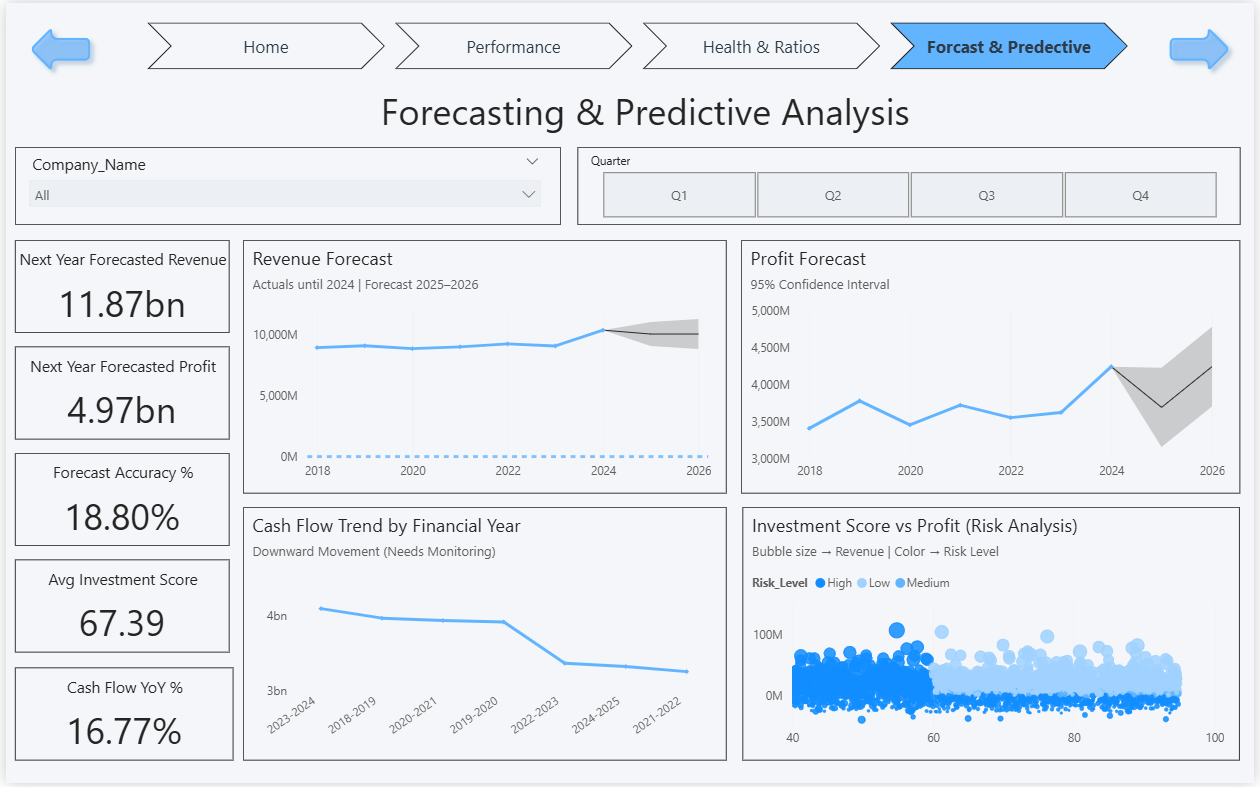

What the dashboard file says about the page in this screenshot:
{"tool":"powerbi","page":{"name":"Forcast & Predective","canvas":[1280,800],"ordinal":3},"visuals":[{"type":"lineChart","title":"Revenue Forecast ","fields":{"Y":["Sum(finance financial_dataset.Revenue)"],"Category":["finance financial_dataset.Year"]},"box":[242.5,243,496,260],"z":0},{"type":"lineChart","title":"Profit Forecast","fields":{"Category":["finance financial_dataset.Year"],"Y":["Sum(finance financial_dataset.Profit)"]},"box":[754.5,243,512,260],"z":1000},{"type":"lineChart","title":"Cash Flow Trend by Financial Year","fields":{"Y":["Sum(finance financial_dataset.Cash_Flow)"],"Category":["finance financial_dataset.Financial_Year"]},"box":[242.5,517,496,260],"z":2000},{"type":"scatterChart","title":"Investment Score vs Profit (Risk Analysis)","fields":{"X":["finance financial_dataset.Investment_Score"],"Y":["Sum(finance financial_dataset.Profit)"],"Series":["finance financial_dataset.Risk_Level"],"Size":["Sum(finance financial_dataset.Revenue)"]},"box":[755.5,517,510,260],"z":3000},{"type":"cardVisual","title":"Next Year Forecasted Revenue","fields":{"Data":["Table 2.Next Year Forecasted Revenue"]},"box":[8.5,243,220,95],"z":4000},{"type":"cardVisual","title":"Next Year Forecasted Profit","fields":{"Data":["Table 2.Next Year Forecasted Profit"]},"box":[8.5,352.5,220.3,95],"z":5000},{"type":"cardVisual","title":"Cash Flow YoY %","fields":{"Data":["Table 2.Cash Flow YoY %"]},"box":[8.5,681,224,95],"z":6000},{"type":"cardVisual","title":"Avg Investment Score","fields":{"Data":["Table 2.Avg Investment Score"]},"box":[8.5,571.5,220.3,95],"z":7000},{"type":"slicer","fields":{"Values":["finance financial_dataset.Company_Name"]},"box":[8.5,147,560,80],"z":8000},{"type":"slicer","fields":{"Values":["finance financial_dataset.Quarter"]},"box":[585.5,147,680,80],"z":9000},{"type":"textbox","box":[368,80,576,64],"z":10000},{"type":"cardVisual","title":"Forecast Accuracy %","fields":{"Data":["Table 2.Forecast Accuracy (Revenue & Profit) %"]},"box":[8.5,462,220.3,95],"z":12000},{"type":"shape","box":[1184,16,80,64],"z":13000},{"type":"shape","box":[16,16,80,64],"z":14000},{"type":"pageNavigator","box":[144,20,1008,48],"z":15000}]}

Visuals, with their boxes in screenshot pixels (x1, y1, x2, y2), scaled from the page's 1280x800 canvas onto the 1260x787 screenshot:
"Revenue Forecast " lineChart: (x1=239, y1=239, x2=727, y2=495)
"Profit Forecast" lineChart: (x1=743, y1=239, x2=1247, y2=495)
"Cash Flow Trend by Financial Year" lineChart: (x1=239, y1=509, x2=727, y2=764)
"Investment Score vs Profit (Risk Analysis)" scatterChart: (x1=744, y1=509, x2=1246, y2=764)
"Next Year Forecasted Revenue" cardVisual: (x1=8, y1=239, x2=225, y2=333)
"Next Year Forecasted Profit" cardVisual: (x1=8, y1=347, x2=225, y2=440)
"Cash Flow YoY %" cardVisual: (x1=8, y1=670, x2=229, y2=763)
"Avg Investment Score" cardVisual: (x1=8, y1=562, x2=225, y2=656)
slicer - finance financial_dataset.Company_Name: (x1=8, y1=145, x2=560, y2=223)
slicer - finance financial_dataset.Quarter: (x1=576, y1=145, x2=1246, y2=223)
textbox: (x1=362, y1=79, x2=929, y2=142)
"Forecast Accuracy %" cardVisual: (x1=8, y1=454, x2=225, y2=548)
shape: (x1=1166, y1=16, x2=1244, y2=79)
shape: (x1=16, y1=16, x2=94, y2=79)
pageNavigator: (x1=142, y1=20, x2=1134, y2=67)
